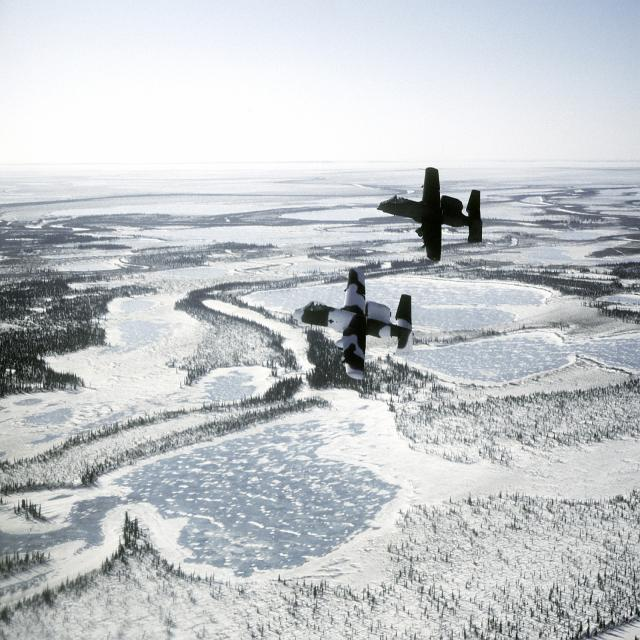MIL_Plane: (291, 267, 414, 380), (377, 167, 483, 261)
